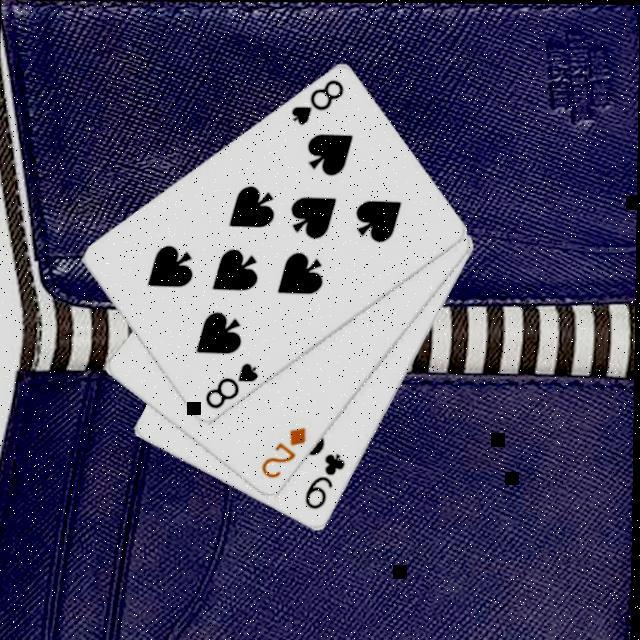2D: (256, 425, 309, 484)
8S: (285, 78, 346, 131), (200, 362, 261, 414)
9C: (301, 451, 348, 515)
